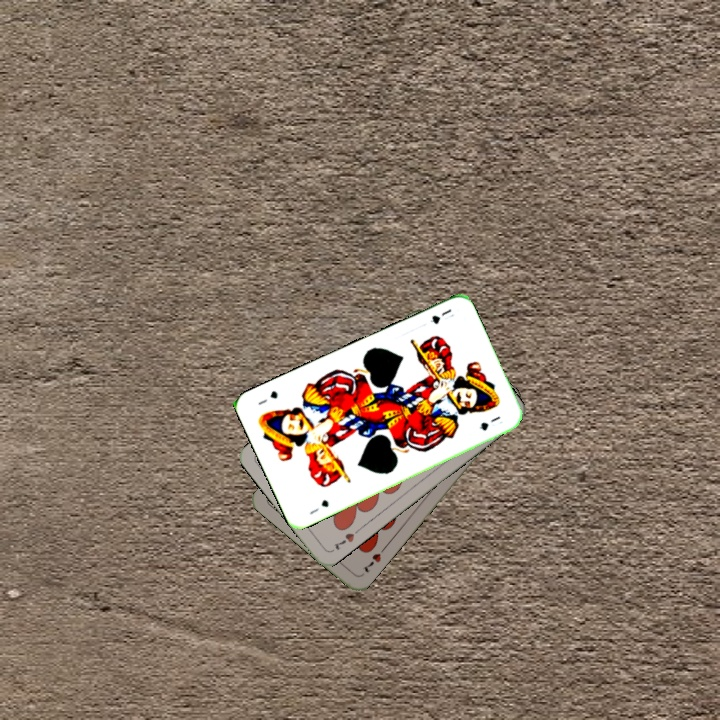GU: (426, 305, 454, 327), (306, 496, 331, 517)
H7: (358, 549, 384, 575), (329, 529, 357, 553)
